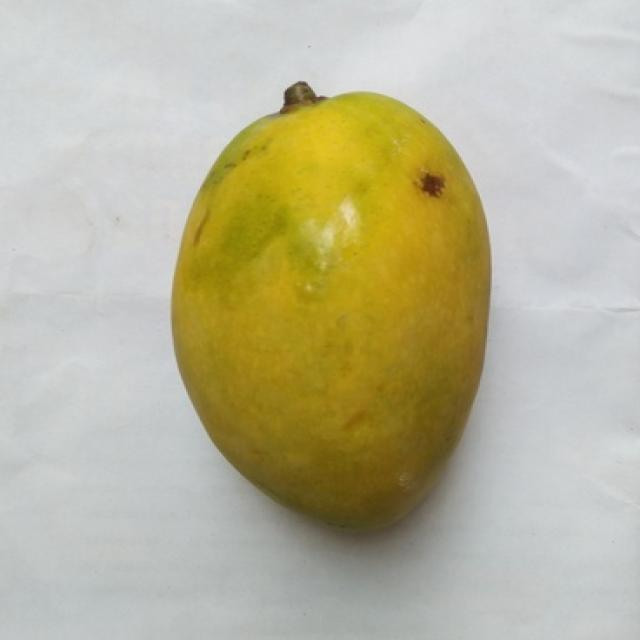Mango: (174, 93, 489, 525)
